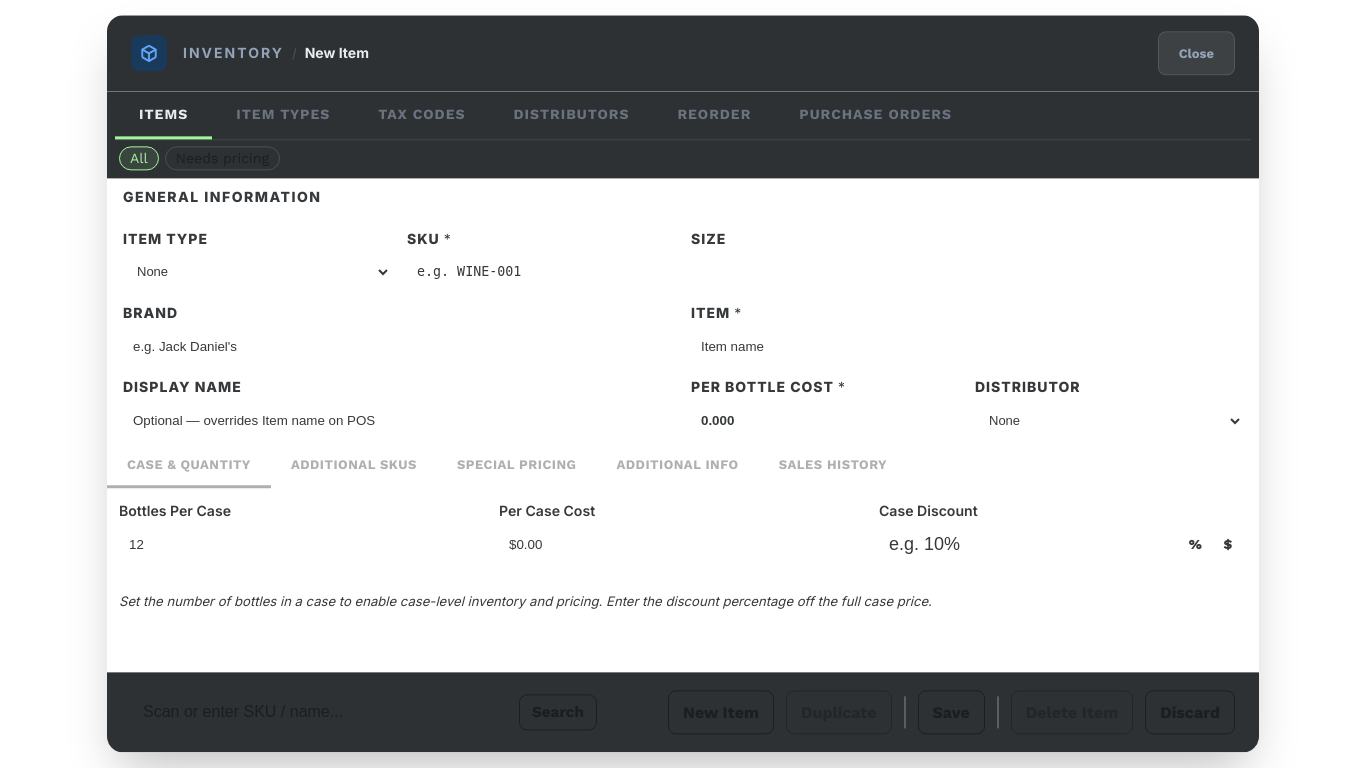
Test: InventoryModal › switches to Item Types panel when tab is clicked
This screenshot has width=1366, height=768.
Click the tab "Item Types" at (283, 115), box [212,91,354,139]
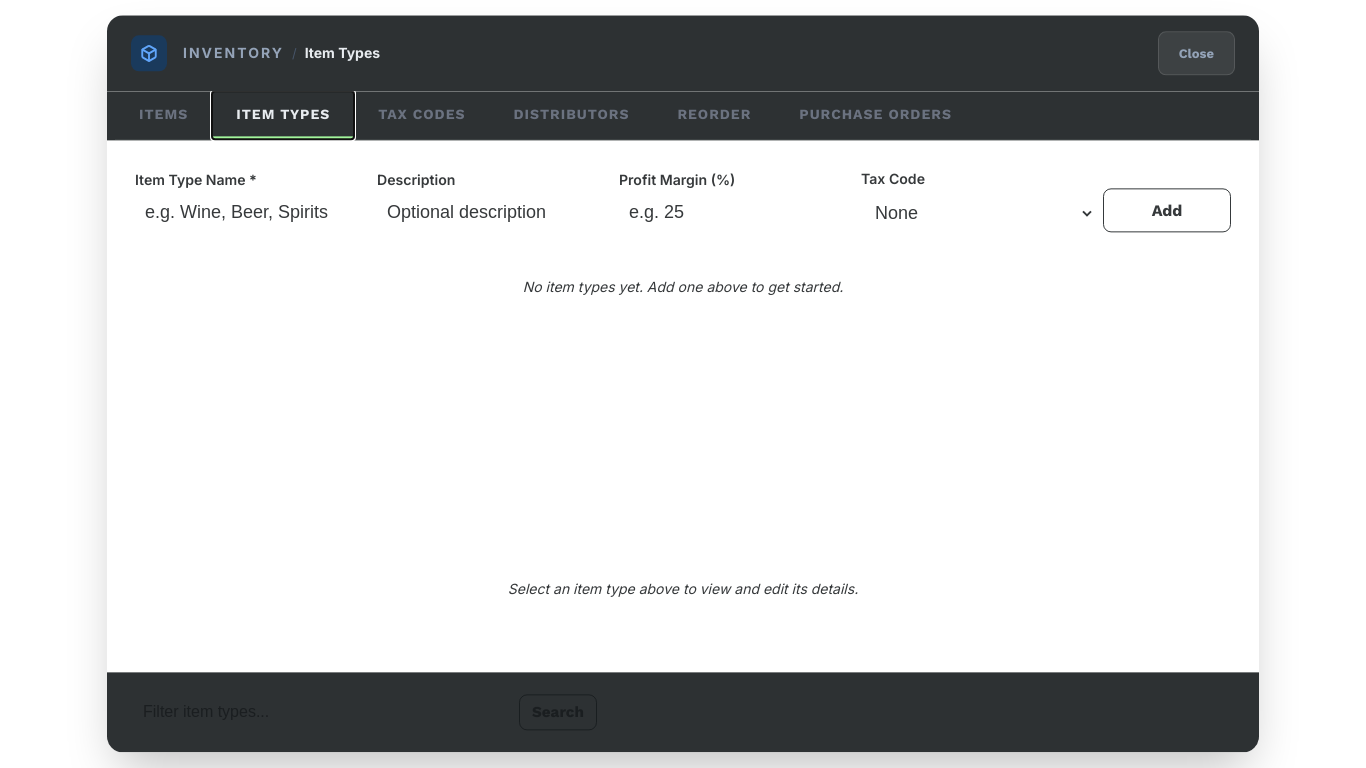
Check: the panel "item types" is shown, box [107,140,1259,673]
